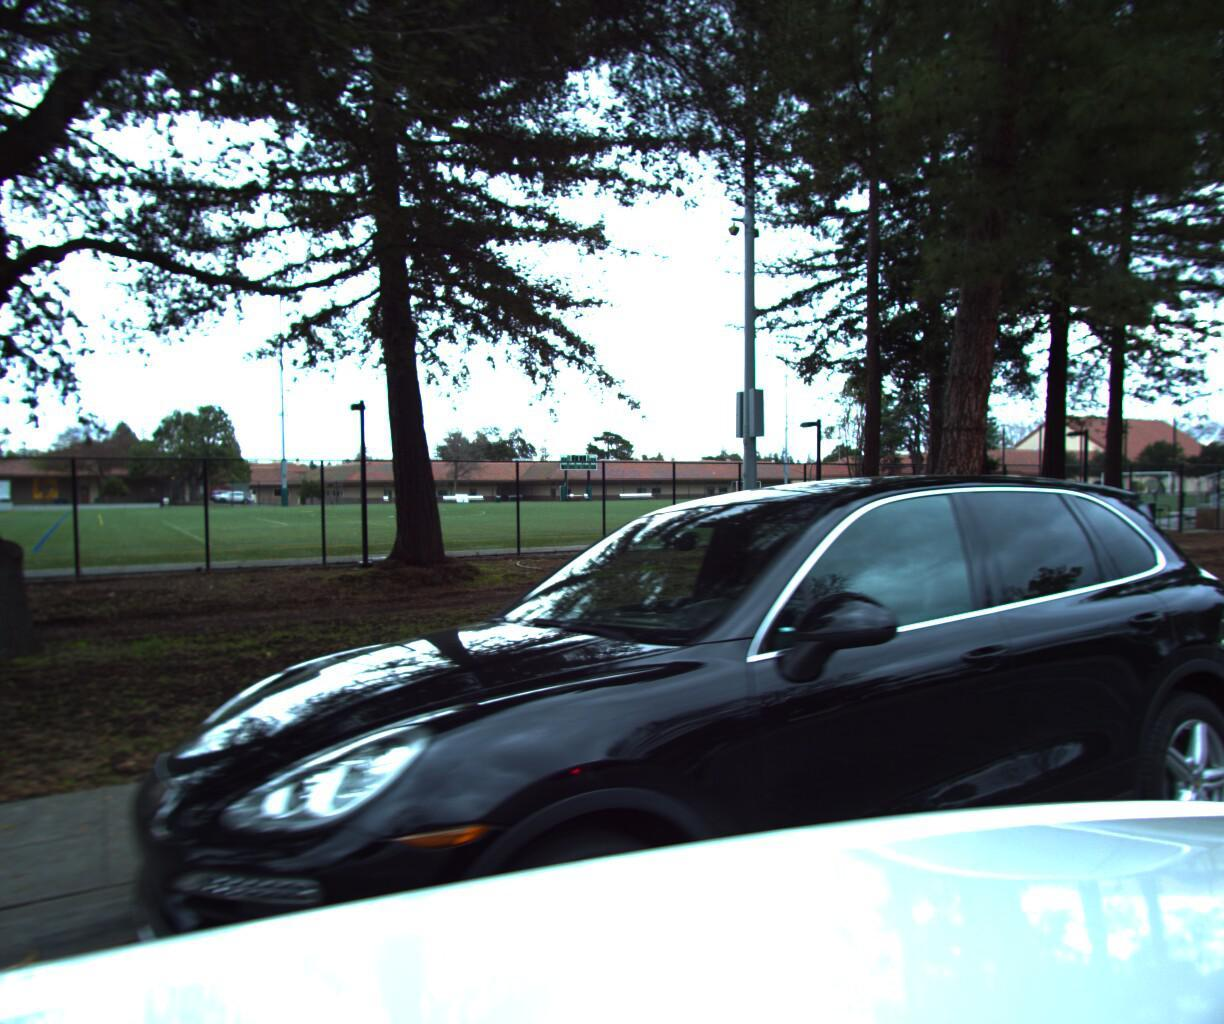car: (79, 474, 1224, 1024), (1185, 444, 1224, 745)
